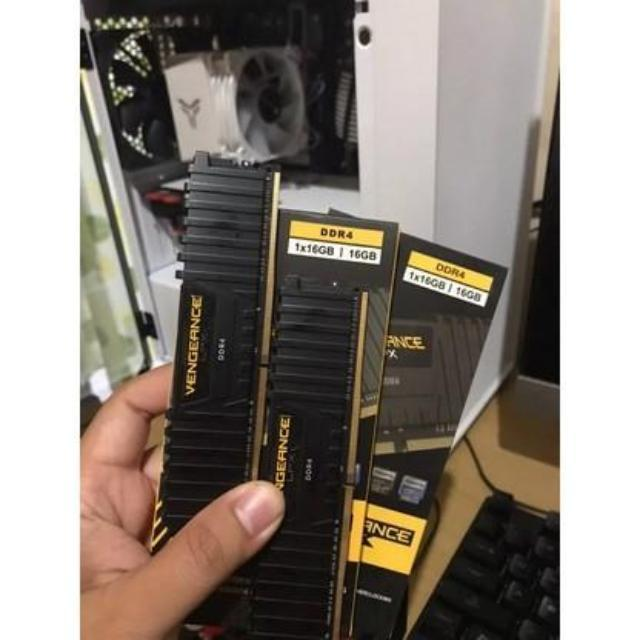RAM: (134, 128, 363, 640)
